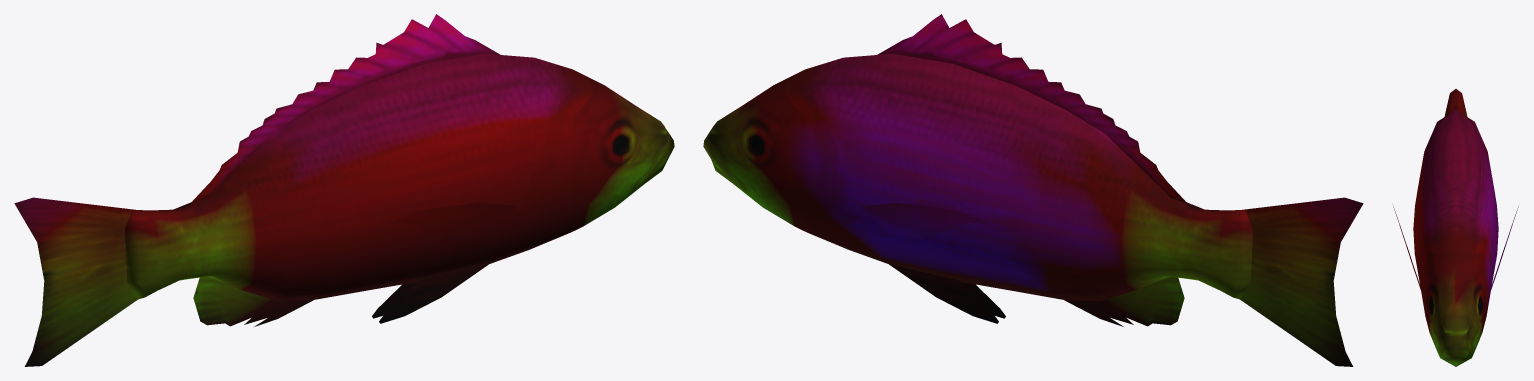
Rendered from red_snapper.glb.
The picture shows the model from 3 angles, left to right: view 1: azimuth 30°, elevation 25°; view 2: azimuth 150°, elevation 25°; view 3: azimuth 270°, elevation 25°; orthographic projection. The views are drawn at different scales.
Visible parts, largest first — view 1: RedSnapper; view 2: RedSnapper; view 3: RedSnapper.
Part boxes in pixels (x1=…): RedSnapper: x1=14, y1=14, x2=674, y2=366; RedSnapper: x1=703, y1=14, x2=1363, y2=366; RedSnapper: x1=1393, y1=89, x2=1518, y2=366.
Bounding box in the file's own units: 1 × 0.4251 × 0.2089.
Materials: 1 (1 with a texture image).
